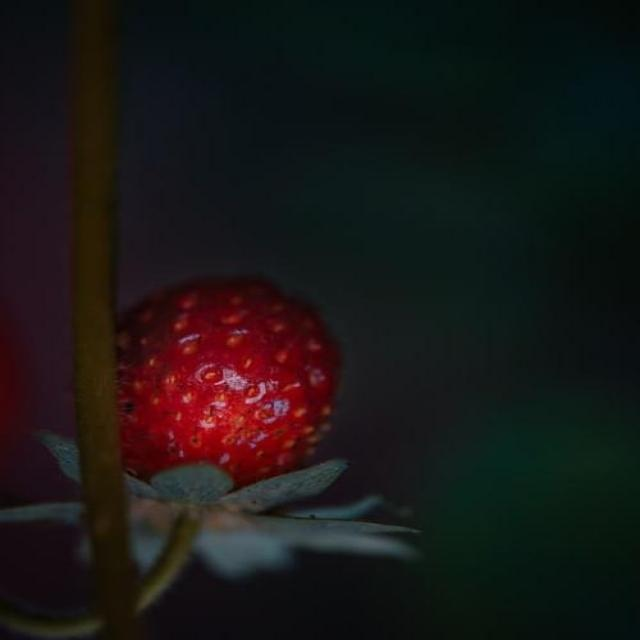mature: (110, 273, 344, 496)
